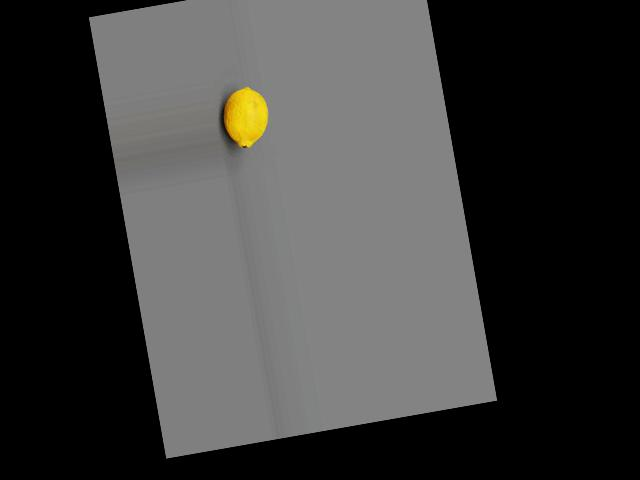lemon: (217, 77, 279, 165)
